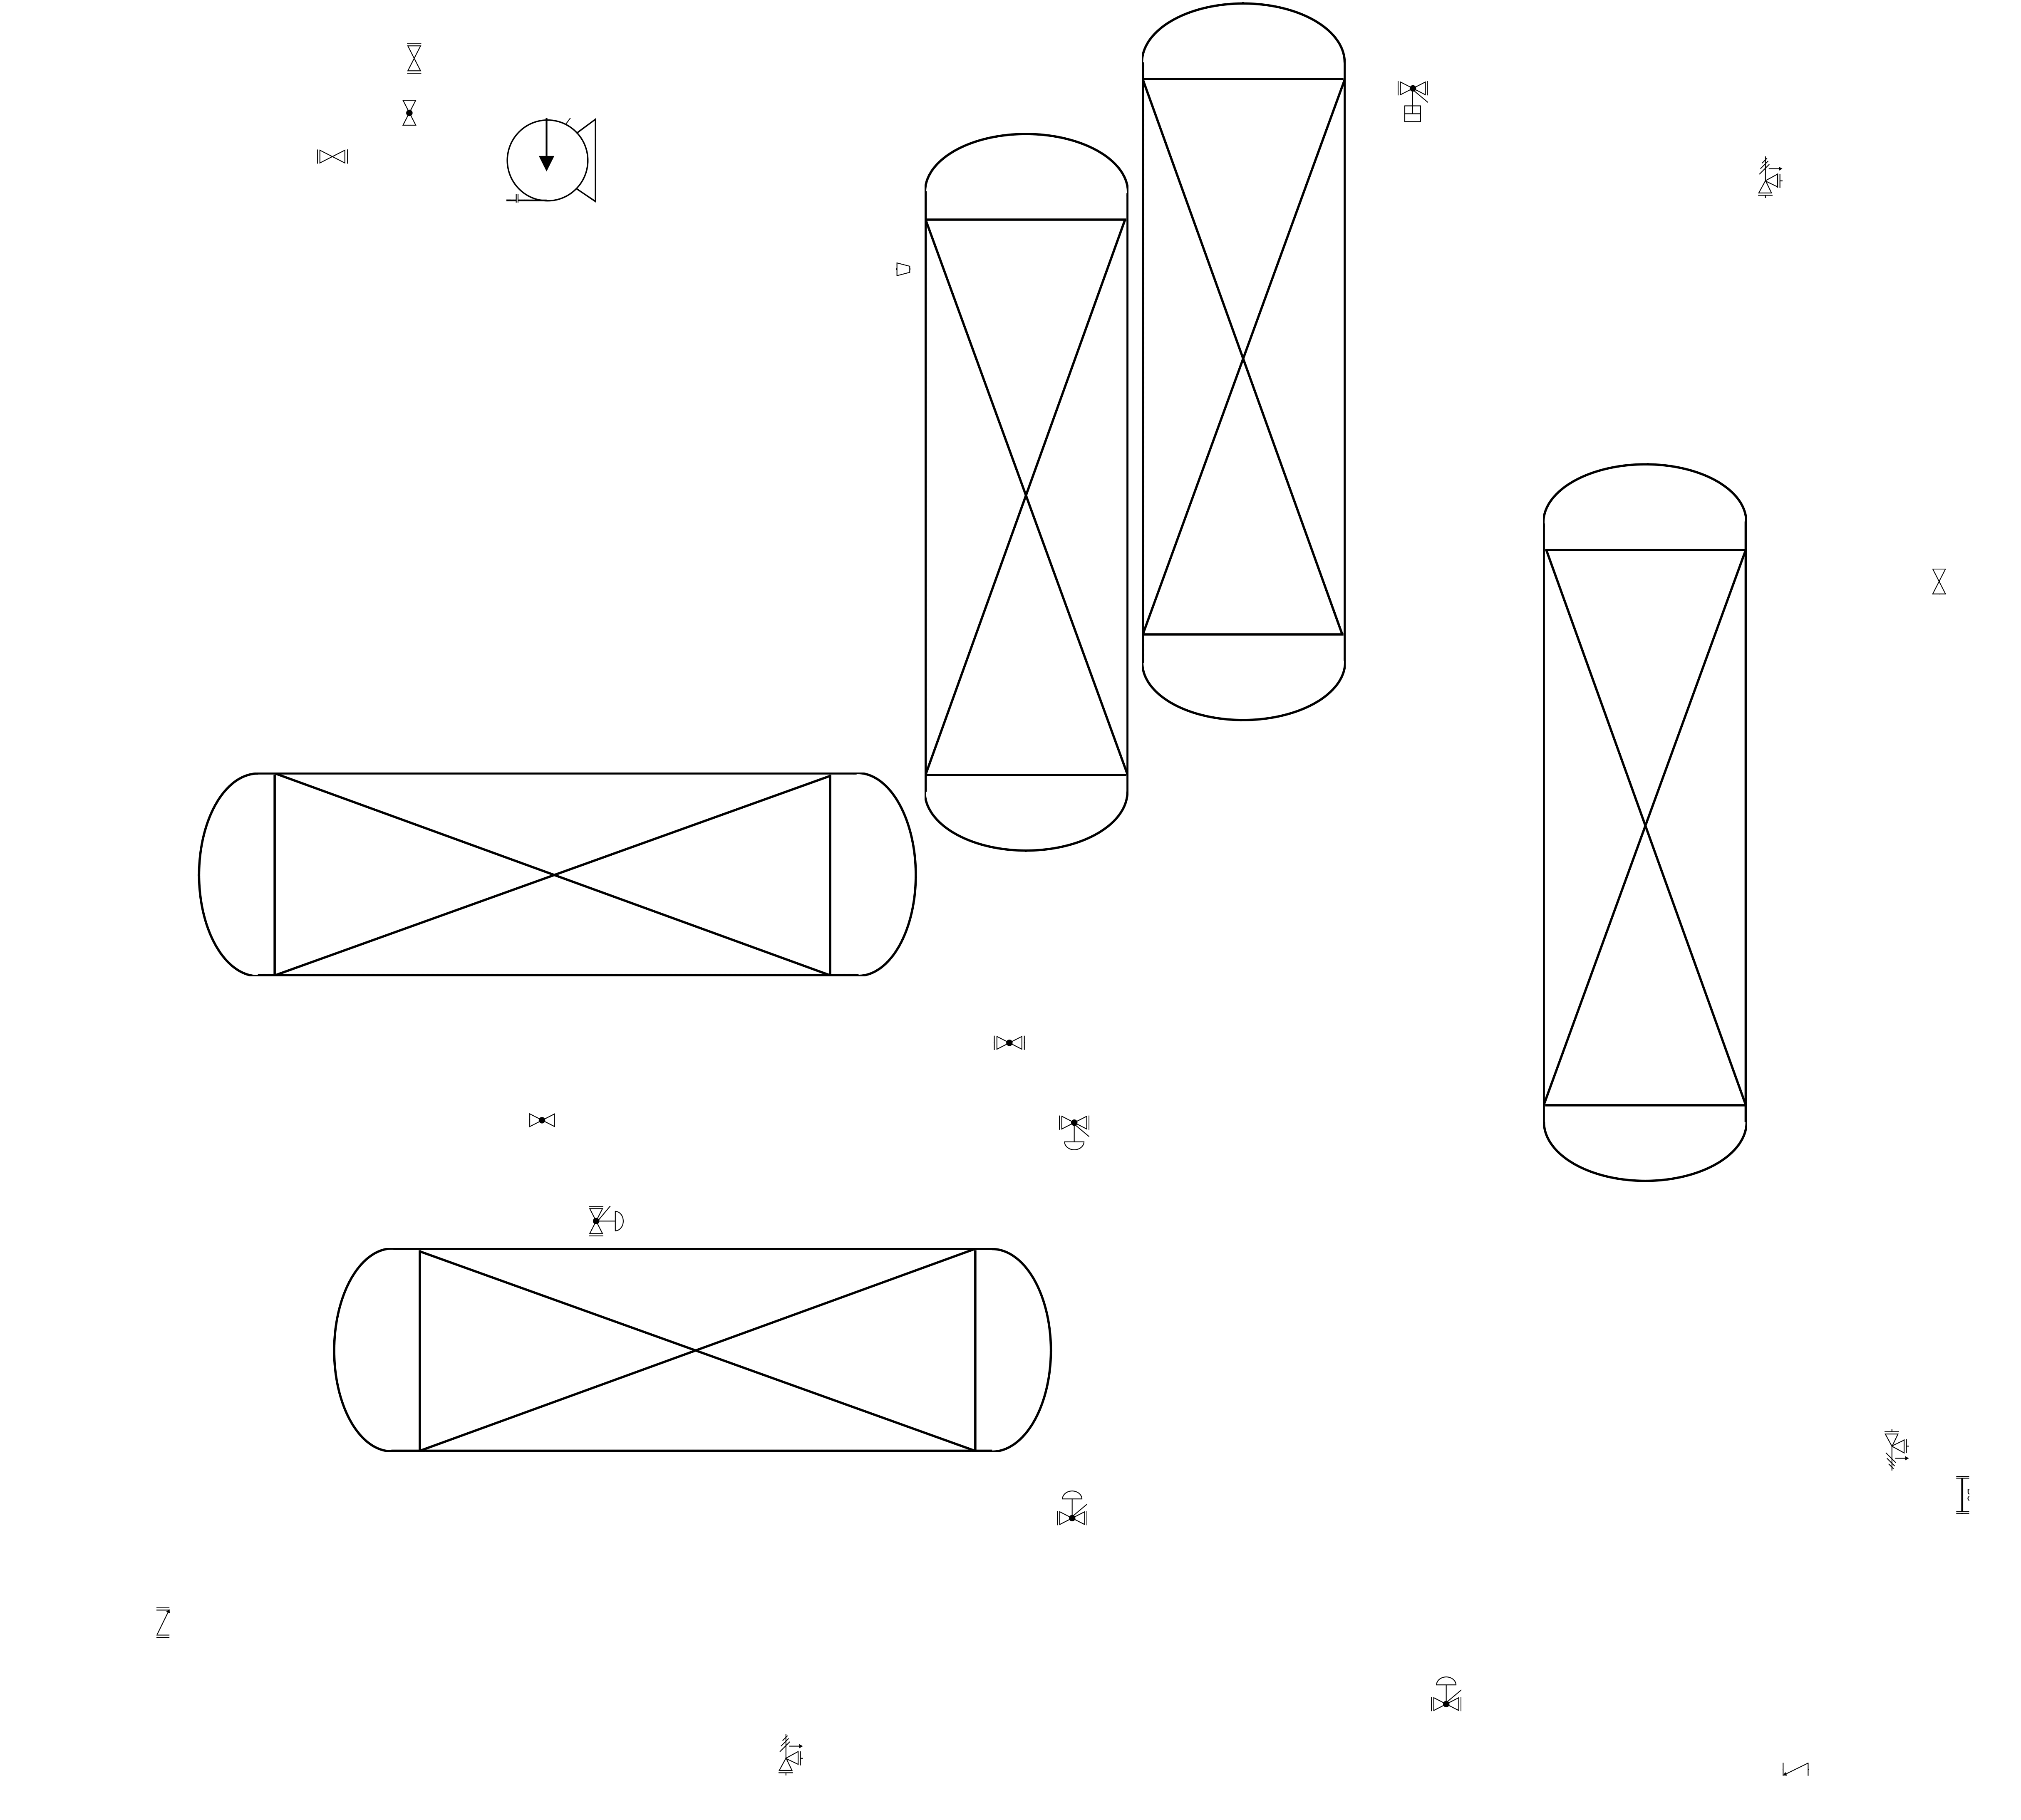centrifugal_pump: (506, 118, 596, 202)
check_valve: (1782, 1762, 1808, 1776)
flanged_blowdown_shutdown_valve: (1397, 81, 1429, 123)
flanged_check_valve: (156, 1607, 170, 1637)
flanged_gate_valve: (408, 42, 422, 74), (316, 149, 348, 163)
flanged_globe_valve: (993, 1035, 1025, 1051)
flanged_pneumatic_diaphragm_operated_valve: (1056, 1490, 1088, 1525), (1431, 1676, 1462, 1711), (589, 1205, 624, 1237), (1060, 1116, 1090, 1151)
flanged_pressure_safety_valve: (779, 1734, 803, 1776), (1884, 1428, 1909, 1470), (1757, 156, 1782, 199)
gate_valve: (1931, 569, 1945, 594)
globe_valve: (529, 1114, 555, 1128), (402, 100, 417, 126)
reducer_expander: (896, 262, 910, 276)
removable_spool: (1956, 1476, 1970, 1514)
vertical_flash_drum: (197, 773, 917, 977), (332, 1247, 1053, 1451), (1142, 2, 1346, 722), (924, 134, 1128, 852), (1543, 464, 1747, 1182)
